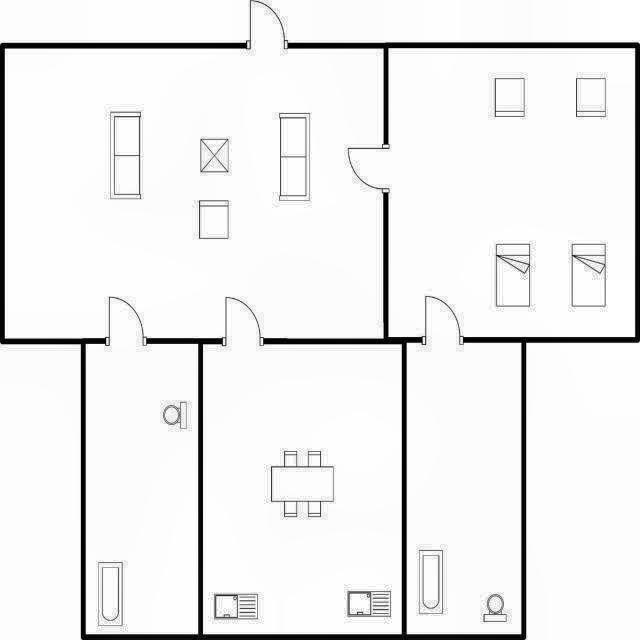room: (5, 49, 384, 339), (388, 48, 635, 337), (203, 344, 402, 634), (407, 343, 521, 634), (86, 344, 198, 634)
